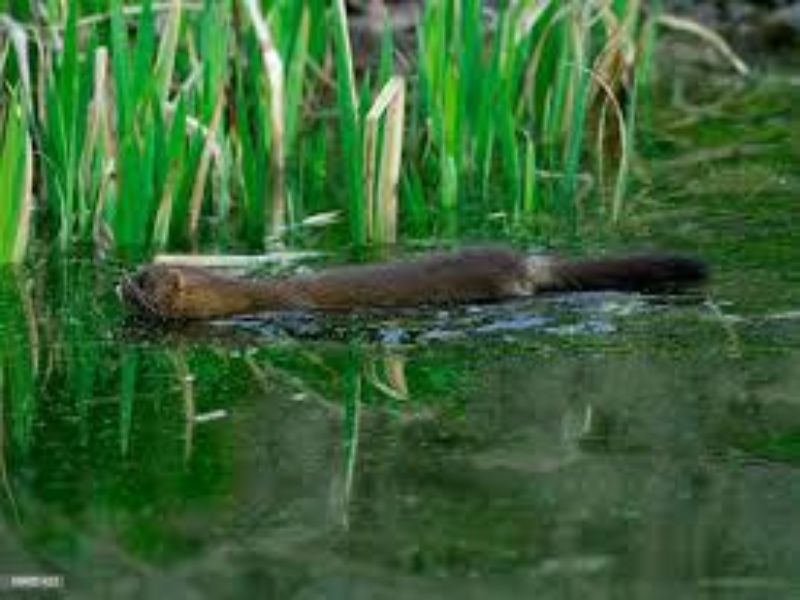minkish: (113, 247, 714, 322)
